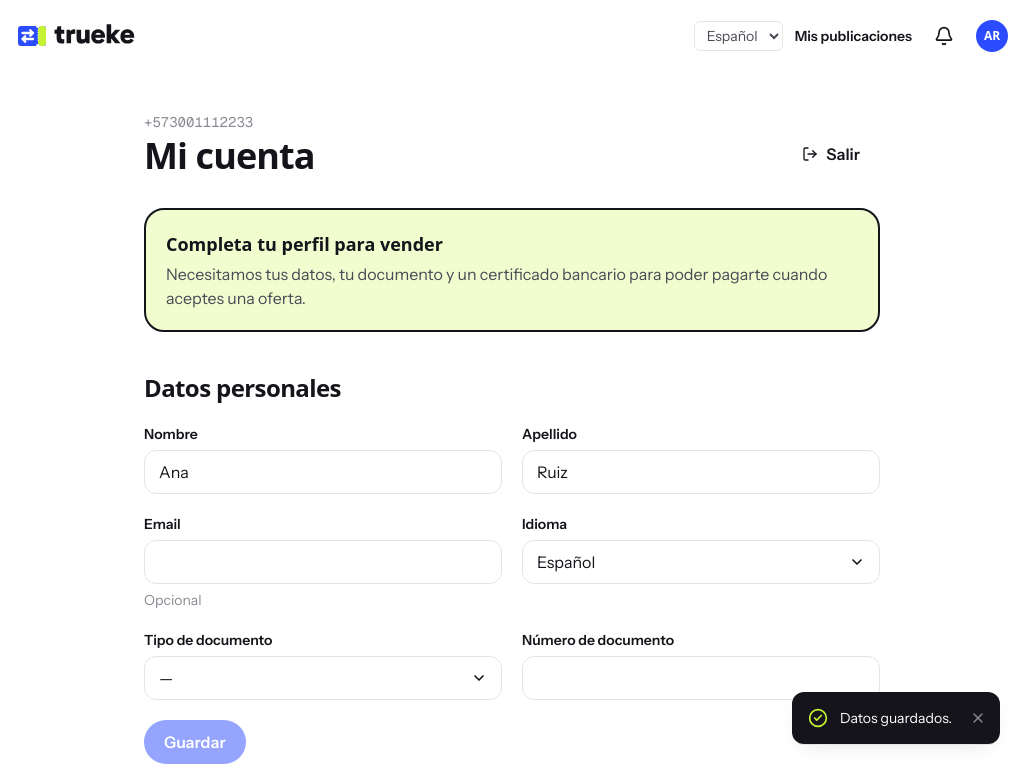
Test: mi cuenta › cambia el idioma de la app al guardar
The width and height of the screenshot is (1024, 768).
Check: the heading "Mi cuenta" is shown, box x1=144 y1=136 x2=315 y2=176
Select "English" in the dropdown labelled "Idioma": (701, 562) x1=522 y1=540 x2=880 y2=584
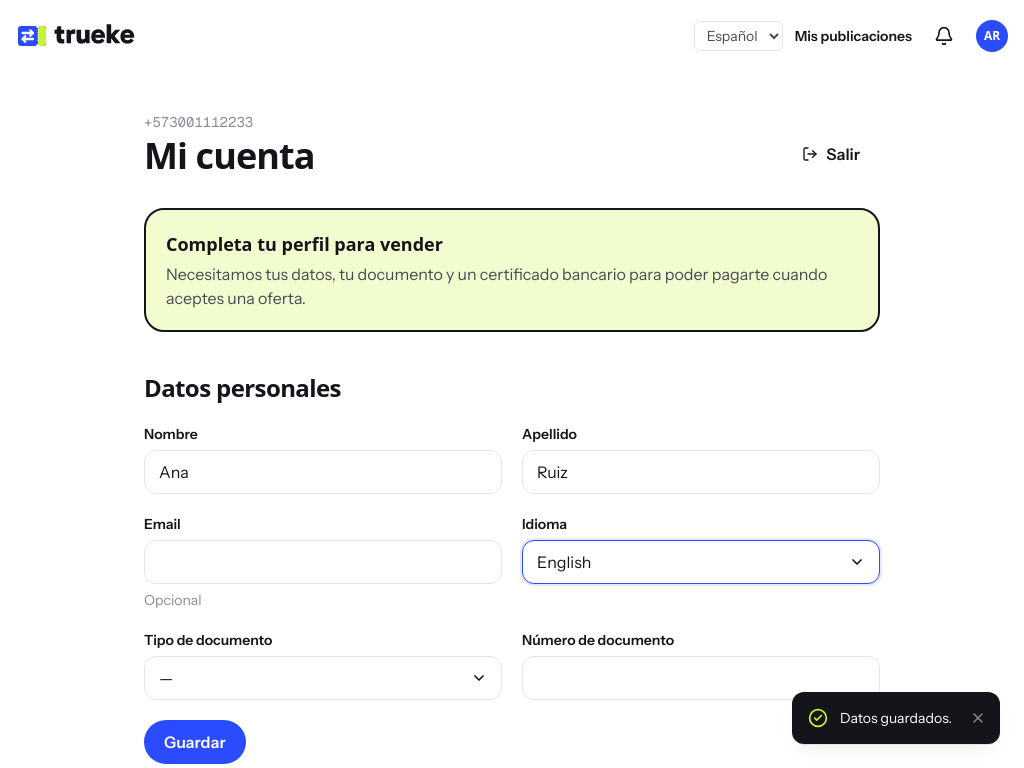
Click the button "Guardar": (195, 742) x1=144 y1=720 x2=246 y2=764
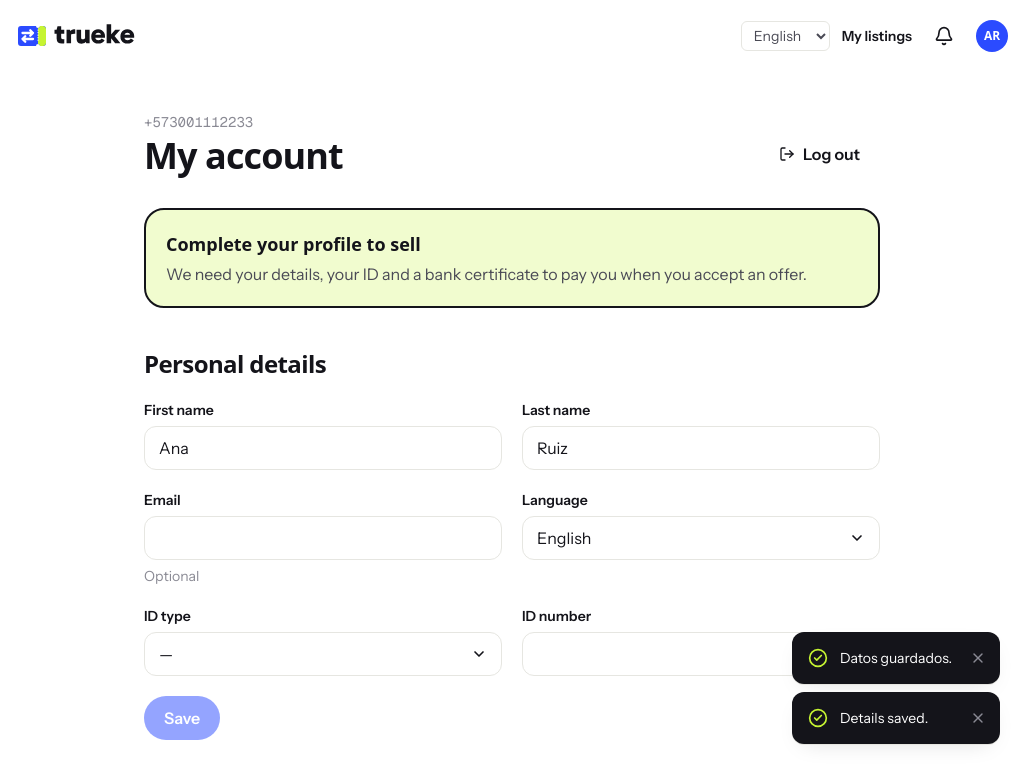
Check: the text "Details saved." is shown, box x1=840 y1=709 x2=928 y2=727
